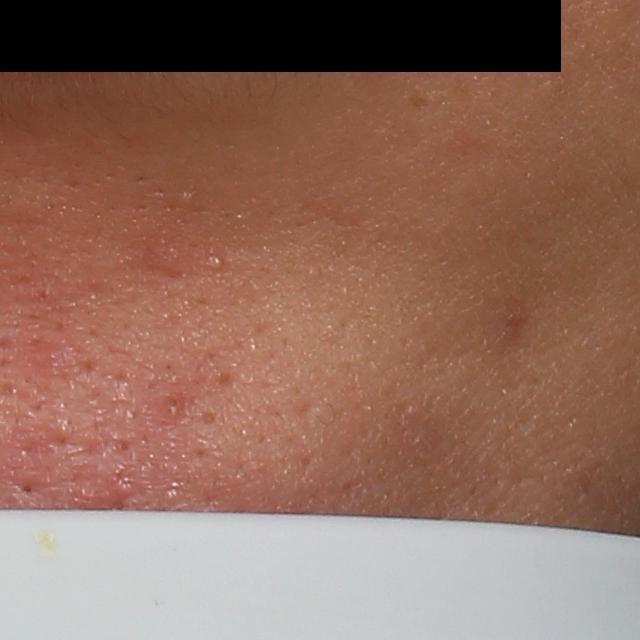comedo: (195, 407, 222, 431)
pustule: (201, 246, 231, 275)
